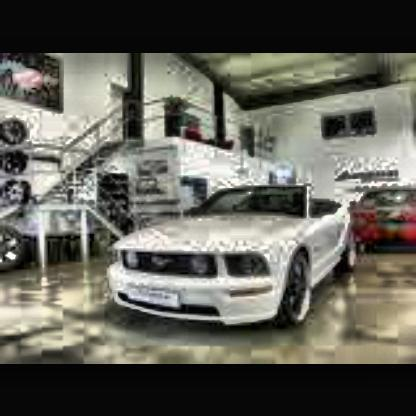Ford Mustang Convertible 2007: (114, 184, 359, 333)
